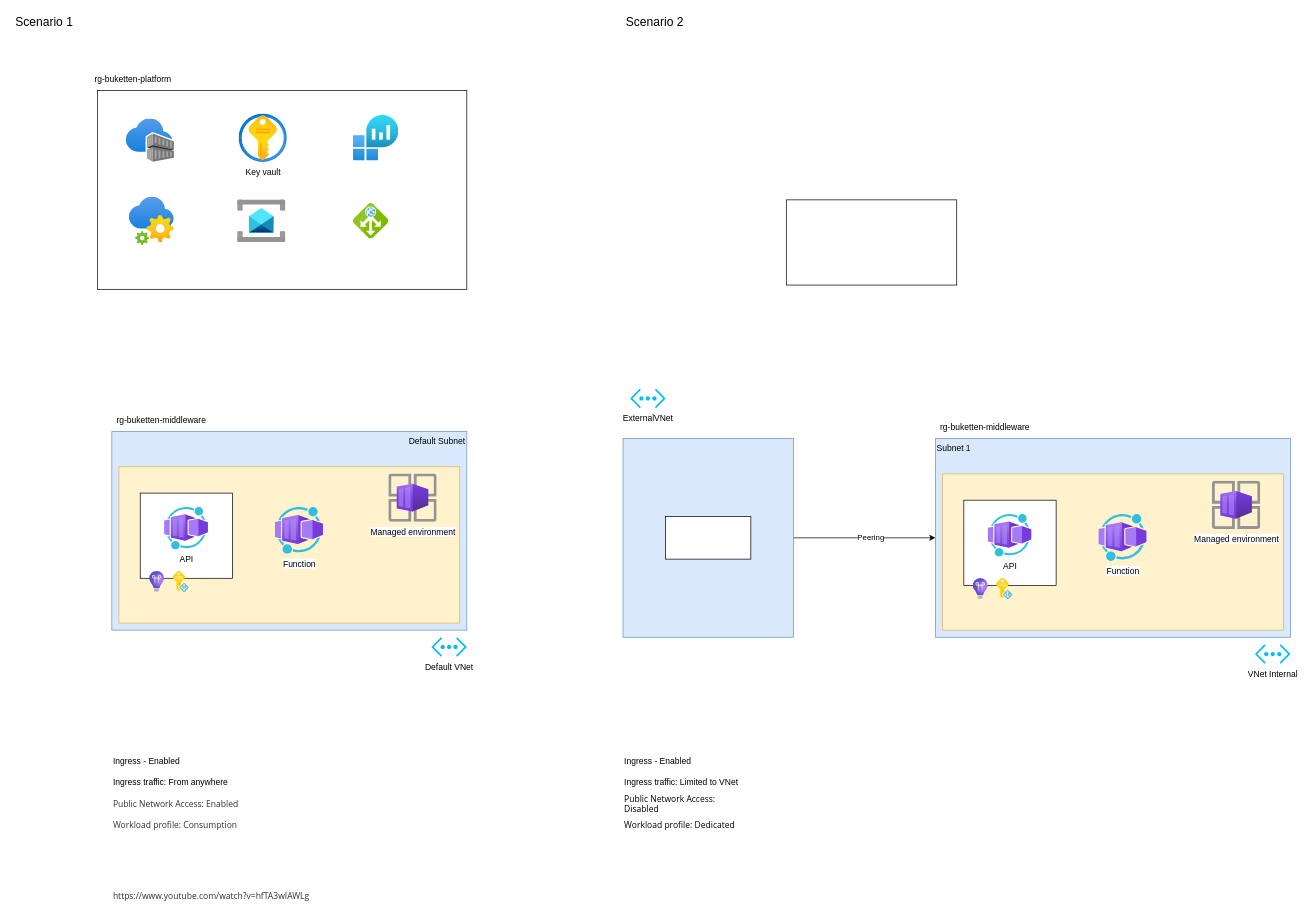
The diagram is 1309 pixels wide and 919 high, and some of its shapes have lost their labels. The shapes that lost their labels are listed below. From the top down, each one's centre as x and y in pixels, then its label:
At (x=150, y=140): "Container Registry".
At (x=375, y=137): "Log Analytics Workspace".
At (x=151, y=221): "App Configuration".
At (x=261, y=221): "Service bus".
At (x=370, y=221): "Application Gateway".
At (x=871, y=242): "Azure Private DNS Zone".
